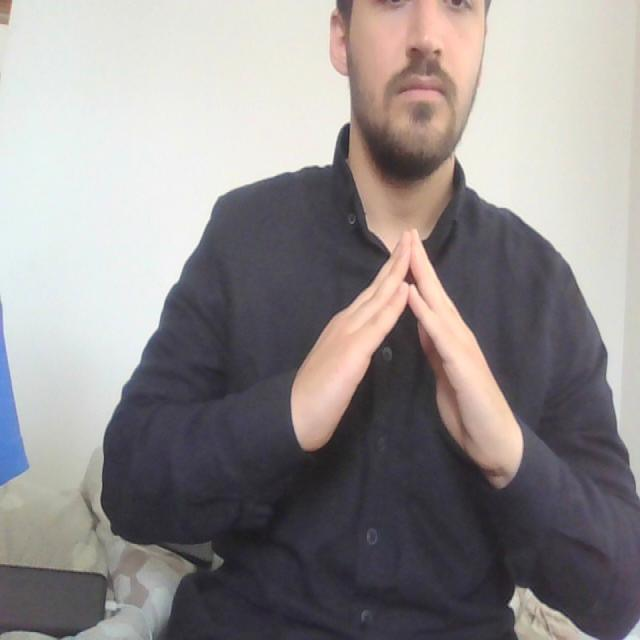Ev: (292, 224, 524, 493)
